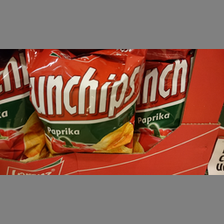chips: (28, 50, 144, 155)
